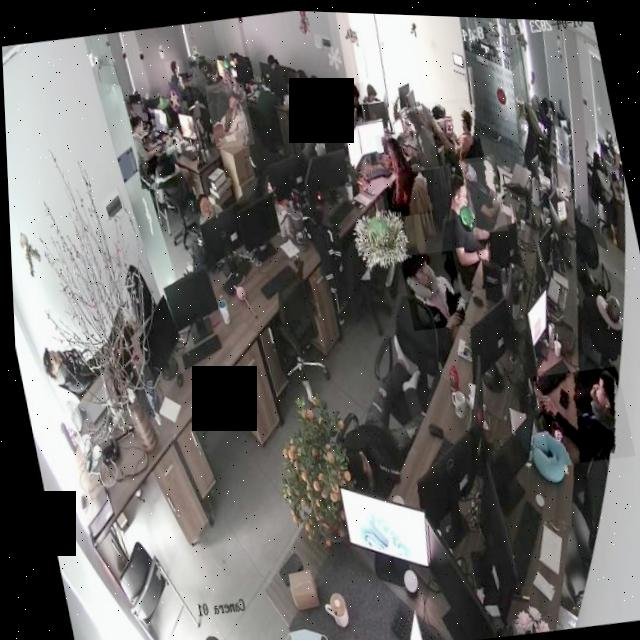person: (530, 359, 632, 465), (438, 166, 498, 289), (397, 245, 465, 330), (407, 92, 483, 167), (374, 126, 430, 216), (126, 108, 177, 191), (458, 151, 507, 232), (204, 79, 254, 148), (399, 101, 439, 170), (184, 52, 222, 95), (335, 78, 370, 121), (164, 58, 189, 97)
